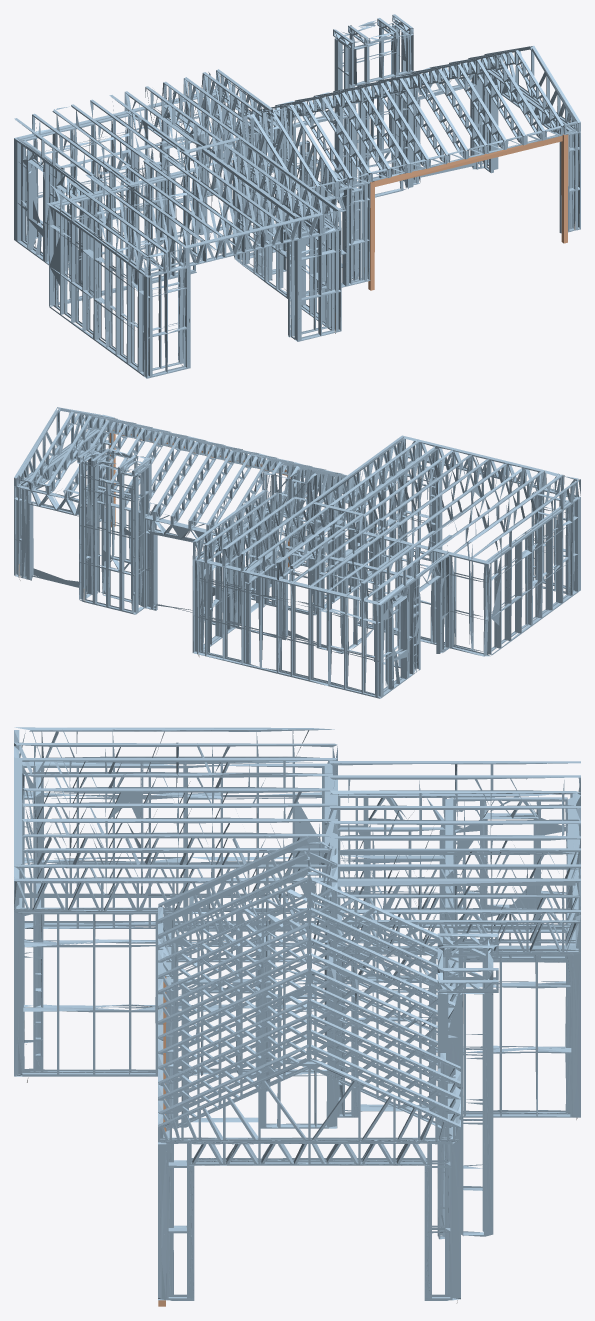
The model's file is mocking-bird-lot-2.glb.
3 renders of one model, top to bottom at view 1: azimuth 30°, elevation 25°; view 2: azimuth 150°, elevation 25°; view 3: azimuth 270°, elevation 25°, orthographic. The views are drawn at different scales.
Visible parts, largest first — view 1: part_00; view 2: part_00; view 3: part_00.
Boxes of the visible parts, x1,y1,x2,y2 form: part_00: (14,14,580,378); part_00: (14,407,580,698); part_00: (14,727,580,1306).
Size of the model in its own units: 15.11 by 5.07 by 9.6.
1 material, 1 textured.
